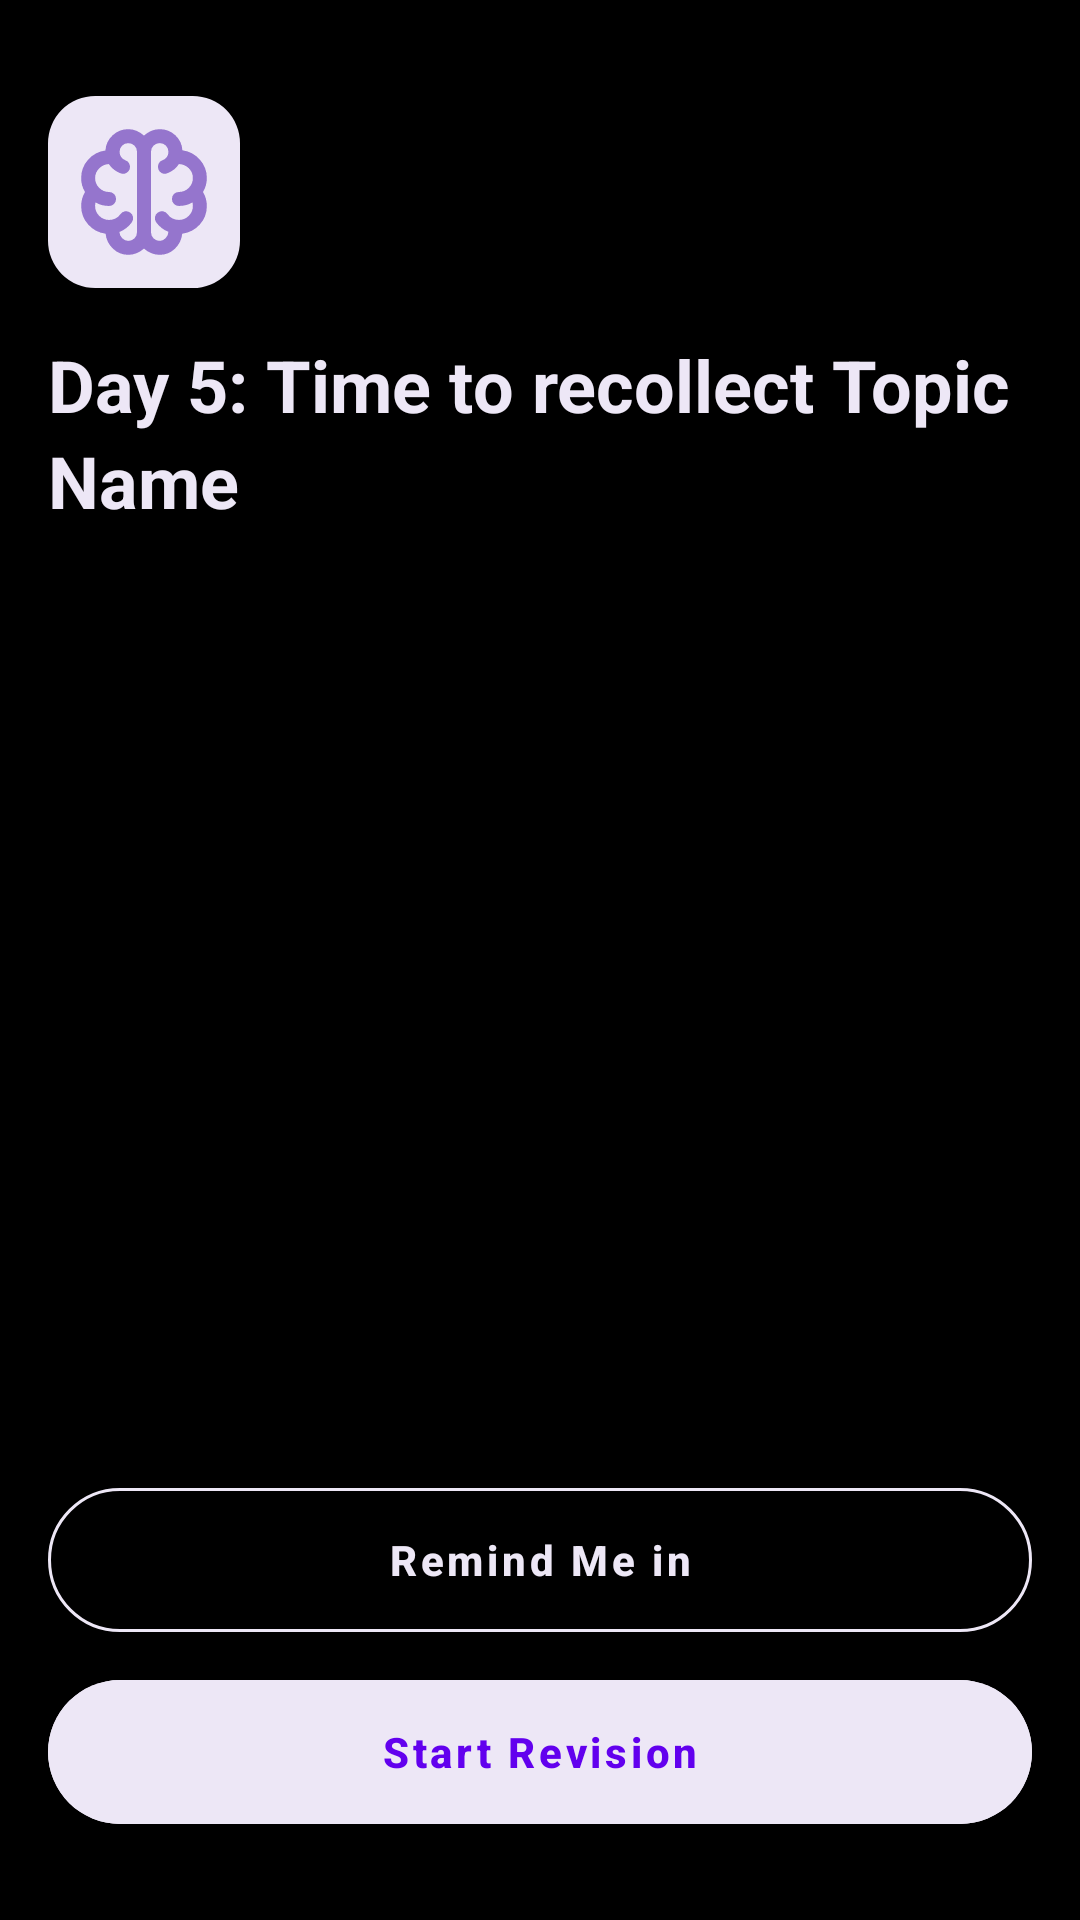

Where to tap for icons on this 1080w x 1920h app screen, as (x,y):
learn it lock screen: (144,192)
